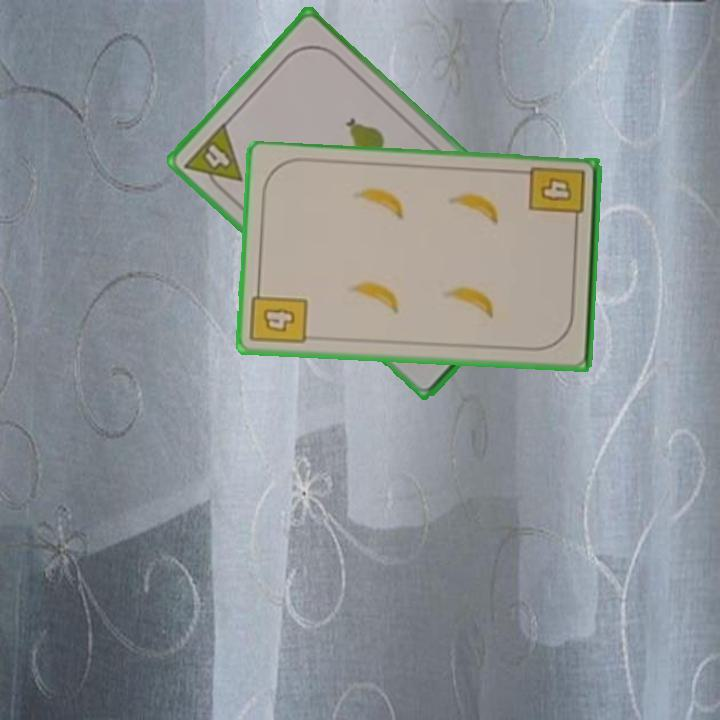4b: (247, 281, 310, 348), (526, 163, 588, 231)
4p: (180, 119, 246, 200)
